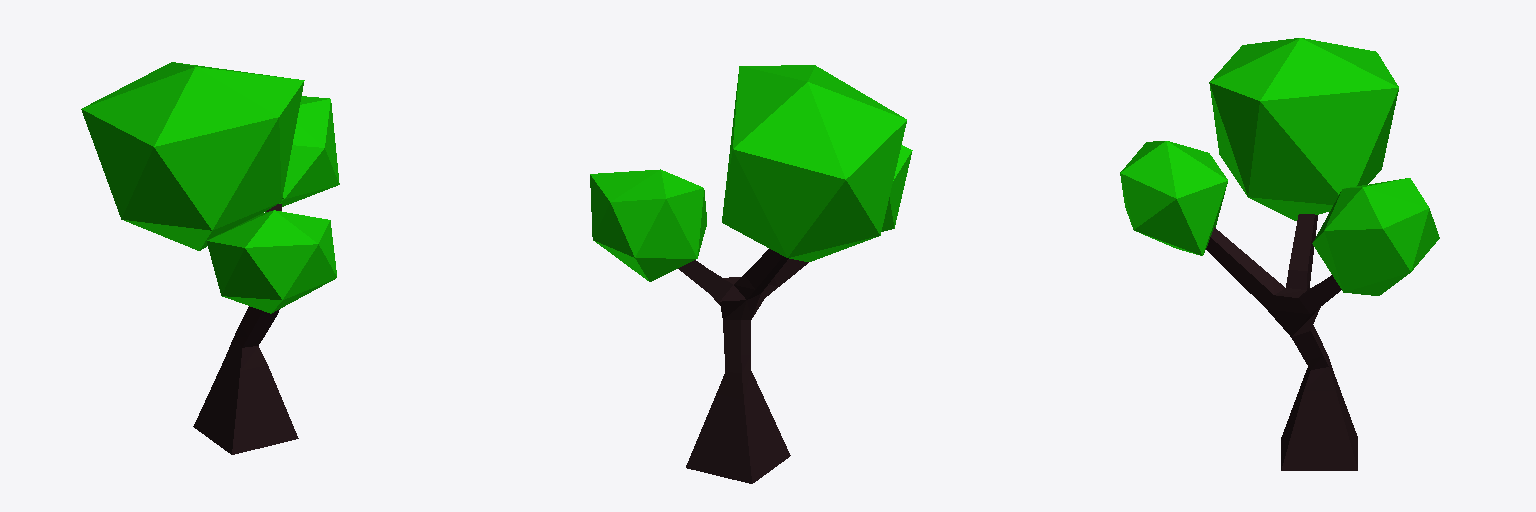
File: dtree4B(F197).obj
3 views of the same model, side by side, from view 1: azimuth 30°, elevation 25°; view 2: azimuth 150°, elevation 25°; view 3: azimuth 270°, elevation 25° (orthographic).
Visible parts, largest first — view 1: Icosphere.050, Icosphere.051, Cube.012, Icosphere.049; view 2: Icosphere.050, Cube.012, Icosphere.049, Icosphere.051; view 3: Icosphere.050, Cube.012, Icosphere.049, Icosphere.051.
Part boxes in pixels (x1,y1,x2,y2): Icosphere.050: (81,62,304,250); Icosphere.051: (207,210,336,313); Cube.012: (193,204,298,454); Icosphere.049: (279,96,339,206); Icosphere.050: (722,65,906,261); Cube.012: (678,249,808,483); Icosphere.049: (590,169,706,281); Icosphere.051: (881,145,912,231); Icosphere.050: (1209,38,1398,220); Cube.012: (1206,214,1357,470); Icosphere.049: (1312,178,1439,295); Icosphere.051: (1120,141,1227,255).
Bounding box in the file's own units: 1.5 × 2.2 × 1.65.